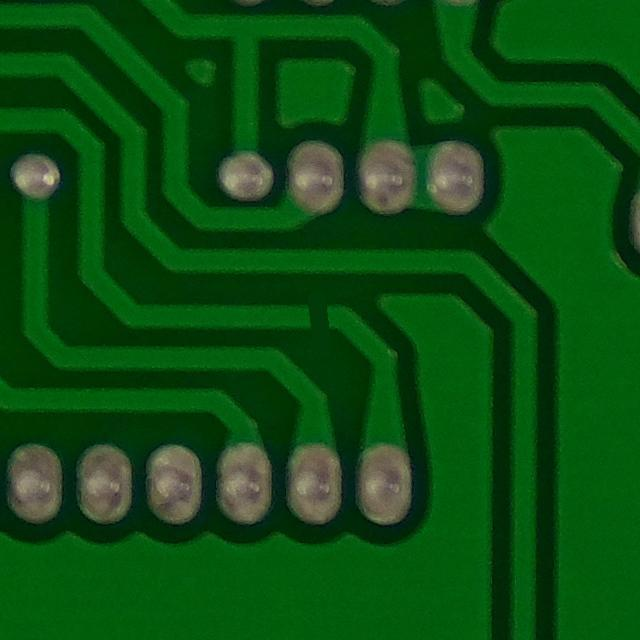open_circuit: (293, 294, 347, 346)
